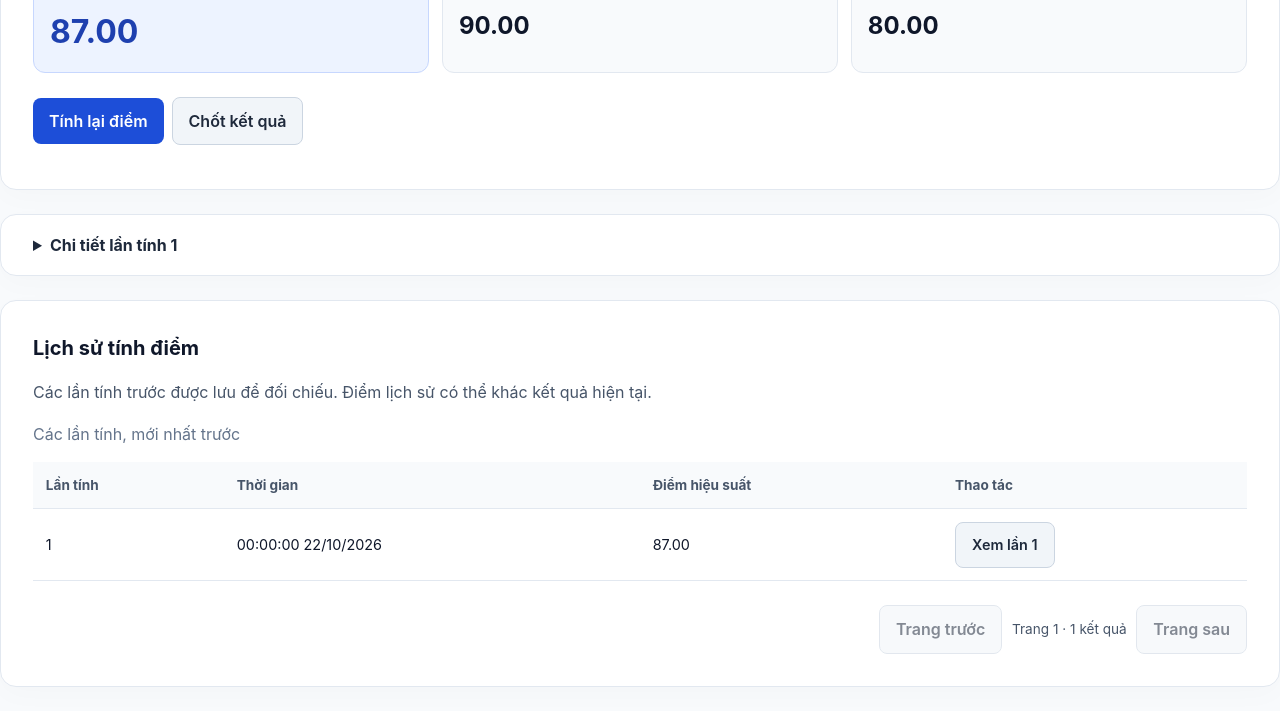
Test: opens history with an explicit historical label
(page scrolled)
Click the button "Xem lần 1".
click(1005, 544)  # box [955,522,1055,568]
(page scrolled)
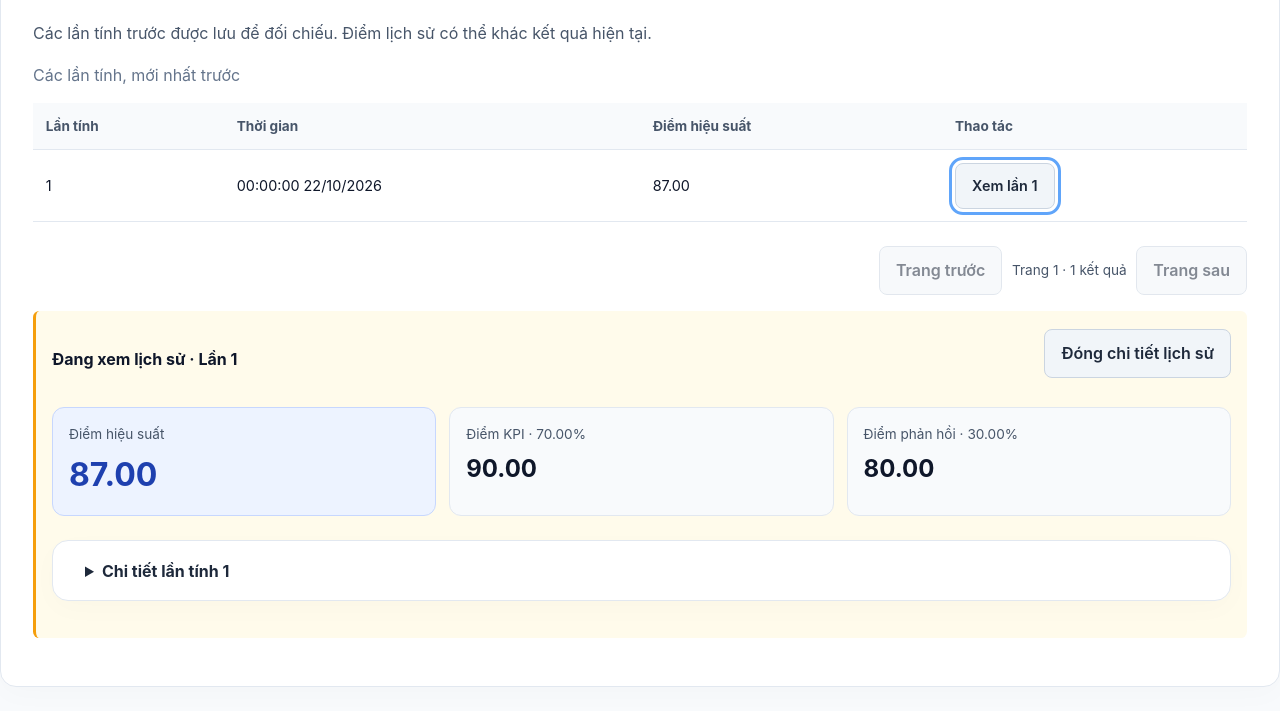
Expected: the heading "Đang xem lịch sử · Lần 1" is shown, [52,348,238,372]
